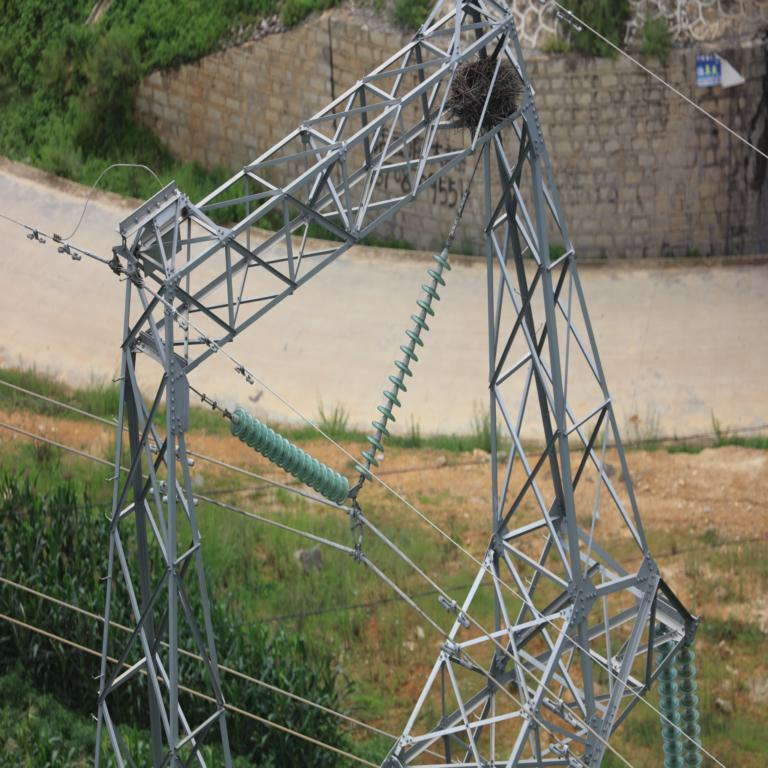nest: (450, 58, 517, 133)
